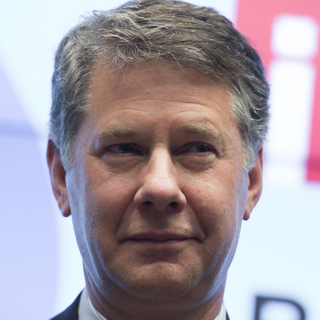eye: (174, 138, 221, 164), (99, 139, 147, 163)
